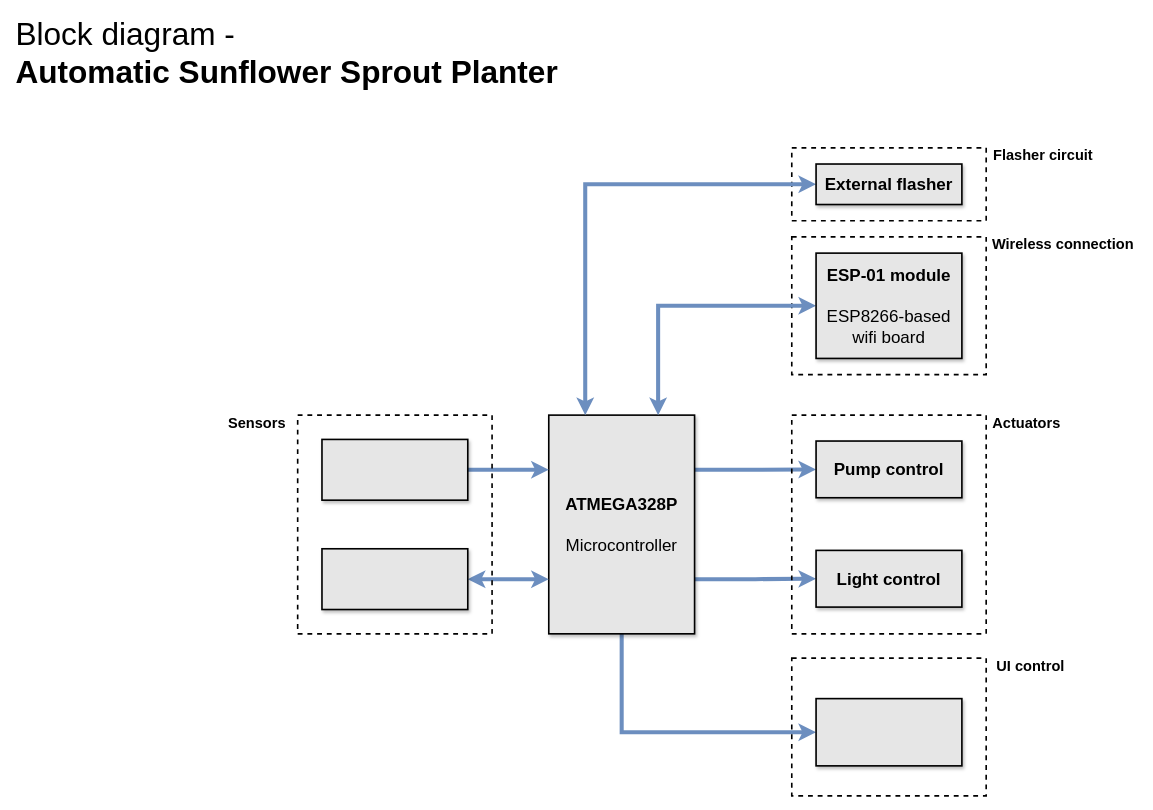
The diagram is 1153 pixels wide and 810 high, and some of its shapes have lost their labels. Each missing label, with the centre of its shape:
"Analog sensors" belongs at (x=395, y=470).
"Digital sensors" belongs at (x=395, y=580).
"UI control board" belongs at (x=889, y=733).
